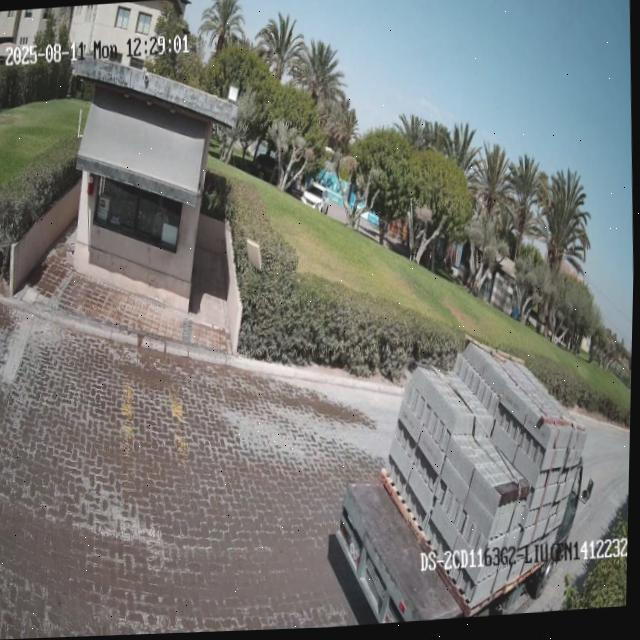bricks: (387, 340, 585, 607)
